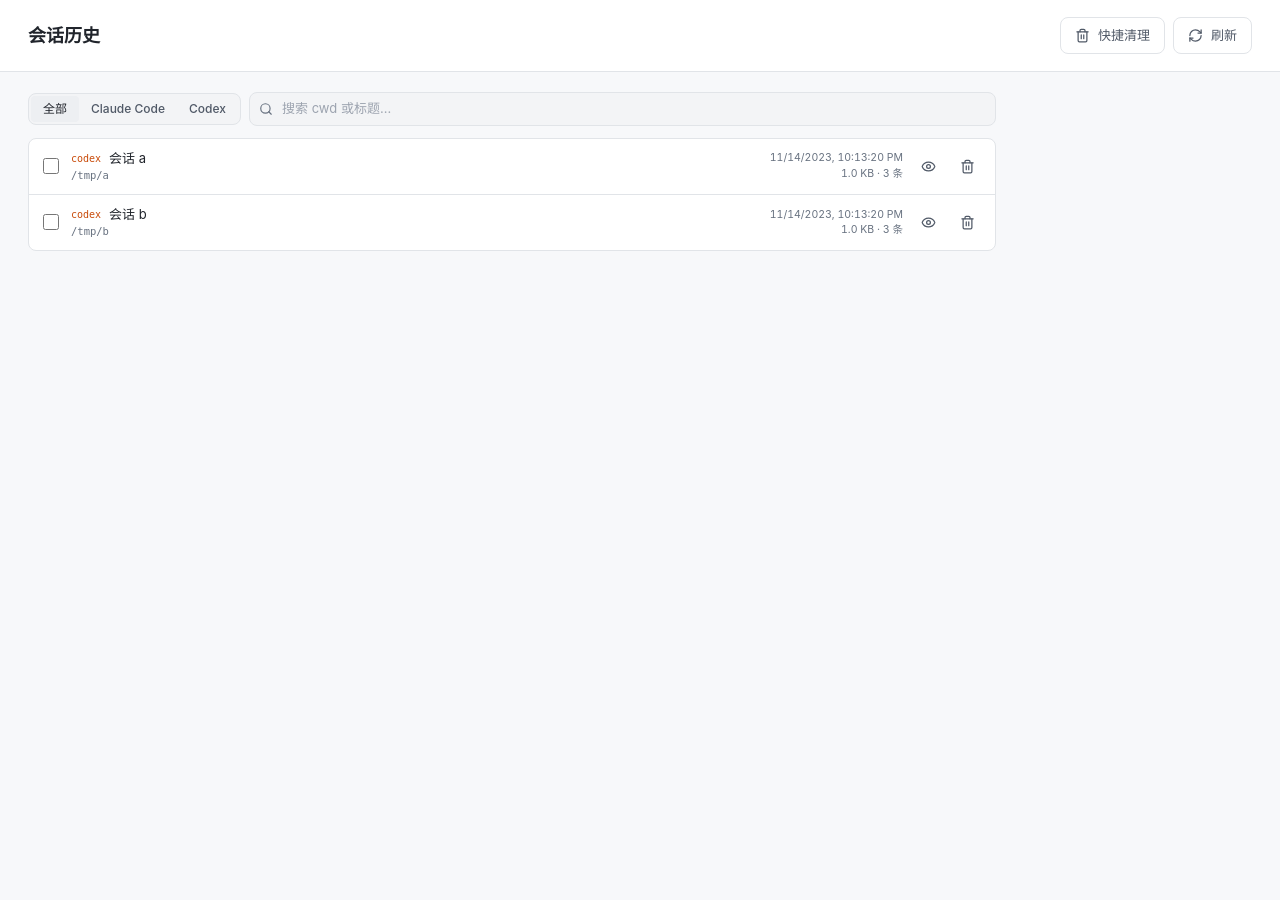
HistoryPage — 删除 › 单删失败时显示后端原因
Expected: the text "会话 a" is shown, [109,148,146,168]
Click the button titled "删除" in the row of "会话 a": (968, 166) [954,153,981,180]
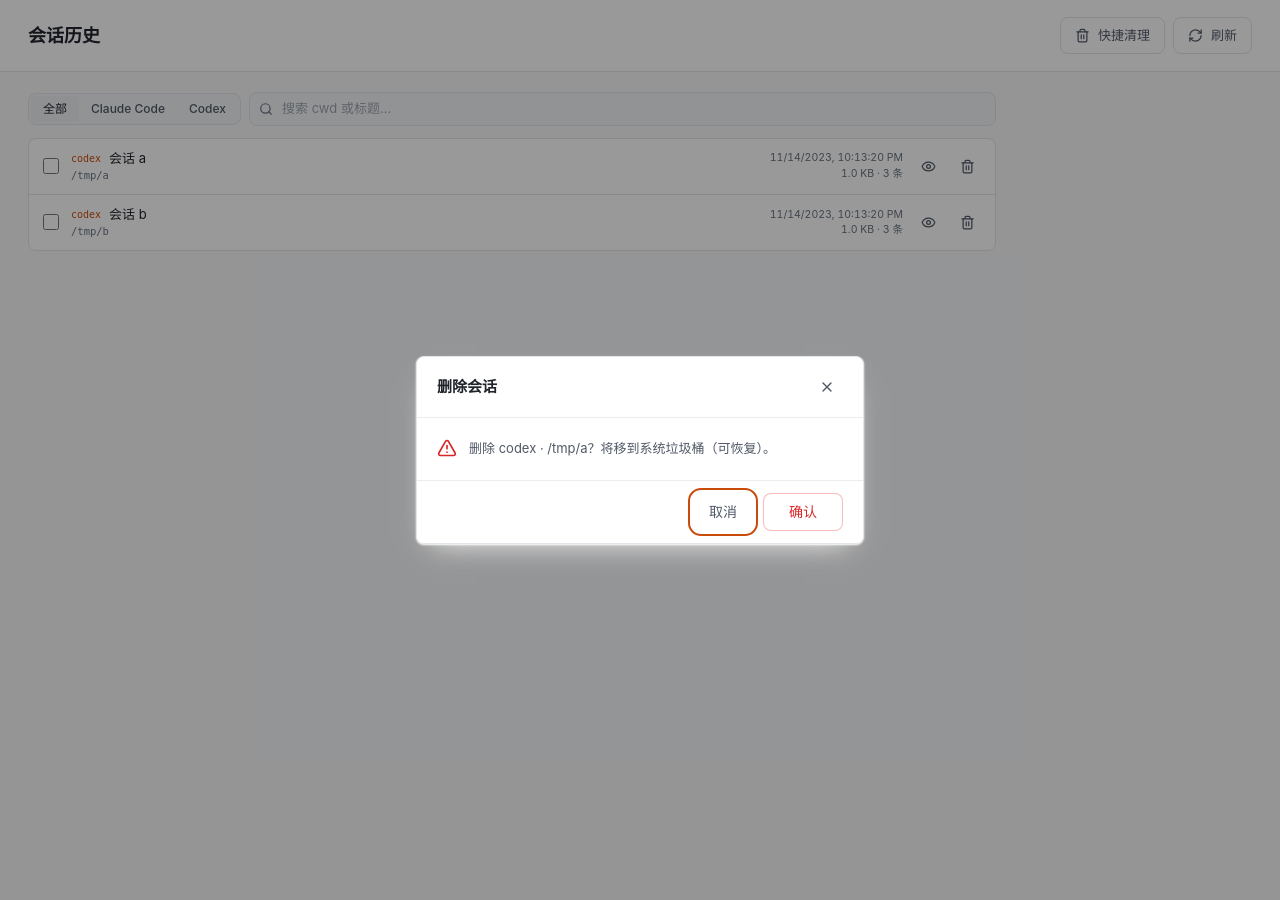
Click the button "确认": (803, 512) [763,493,843,531]
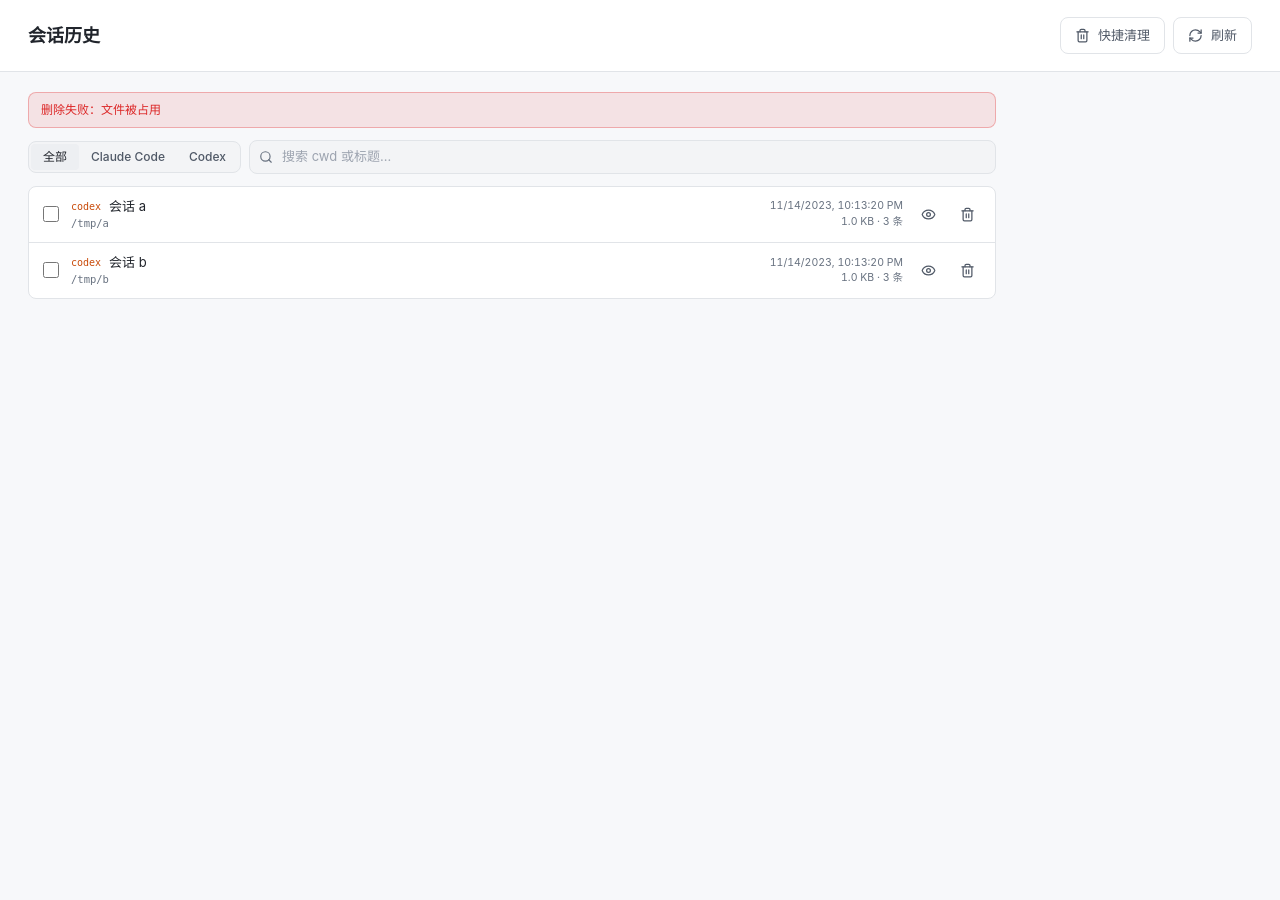
Expected: the message shows "文件被占用", [41,102,161,117]
